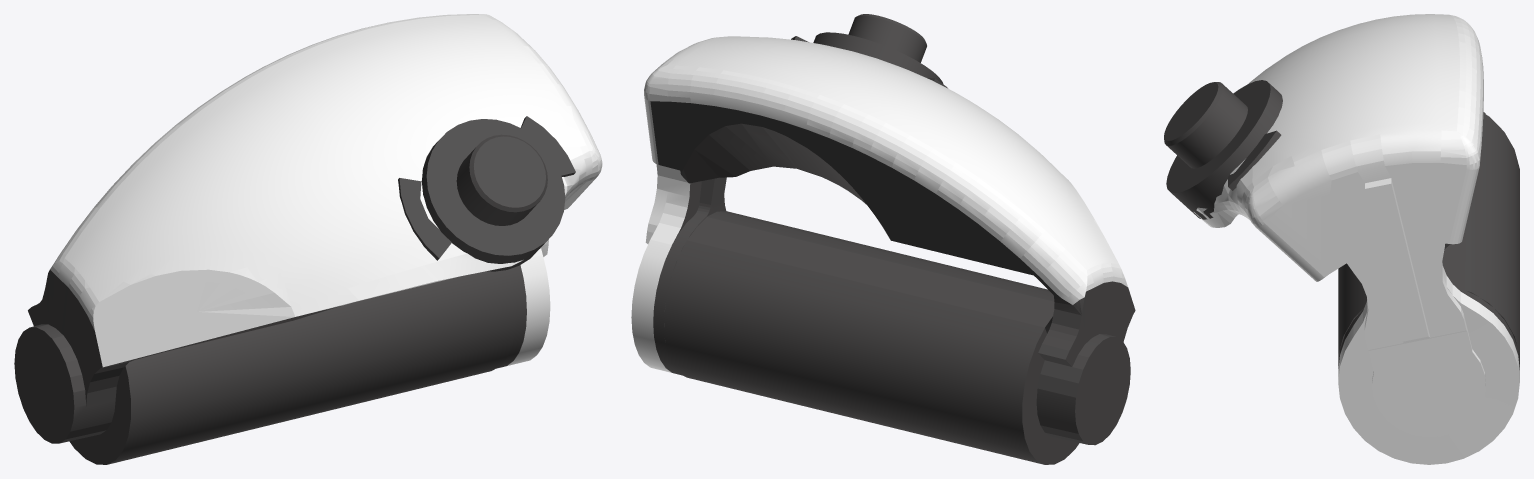
File: LHipYawPitch.dae
3 views of the same model, side by side, from view 1: azimuth 30°, elevation 25°; view 2: azimuth 150°, elevation 25°; view 3: azimuth 270°, elevation 25° (orthographic). The views are drawn at different scales.
Visible parts, largest first — view 1: LHipYawPitch; view 2: LHipYawPitch; view 3: LHipYawPitch.
Part boxes in pixels (box(x1,y1,x2,y2)): LHipYawPitch: box(14, 14, 602, 464); LHipYawPitch: box(631, 14, 1135, 464); LHipYawPitch: box(1164, 14, 1519, 464).
Size of the model in its own units: 0.828 by 0.5298 by 0.5674.
Materials: 1 (1 with a texture image).
